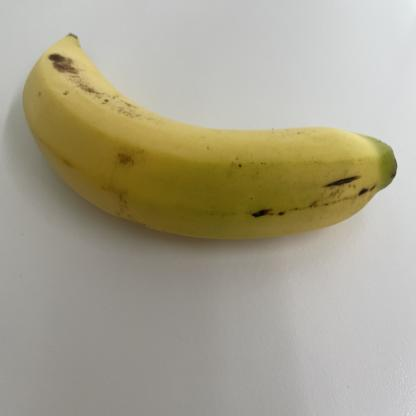banana: (19, 26, 403, 247)
